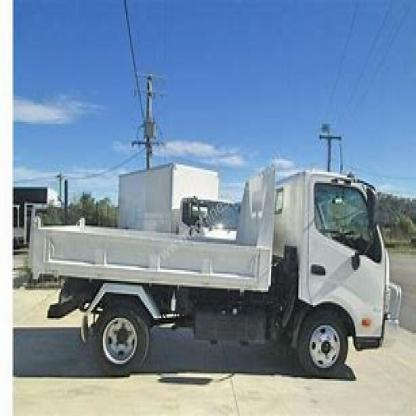dump_truck: (27, 126, 407, 383)
